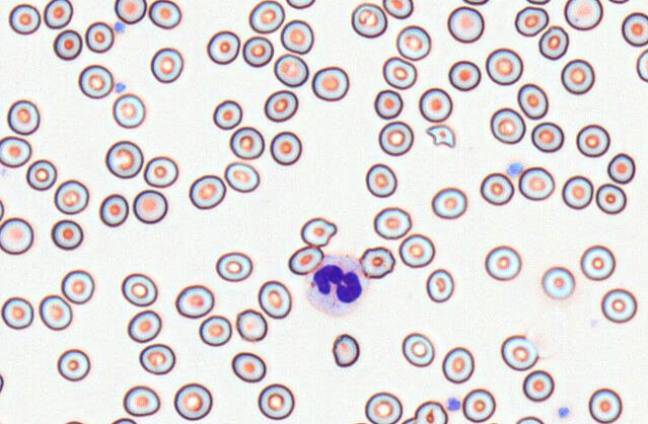GRAN: (305, 252, 370, 318)
PLT: (111, 19, 128, 35), (445, 396, 462, 412), (114, 80, 130, 96), (507, 161, 524, 176), (556, 405, 571, 420)
RBC: (173, 382, 212, 420), (105, 140, 143, 179), (485, 47, 523, 85), (447, 5, 484, 43), (500, 334, 538, 371), (257, 383, 294, 420), (311, 65, 349, 101), (257, 279, 291, 319), (484, 245, 521, 281), (350, 2, 387, 38), (489, 107, 525, 144), (600, 287, 637, 323), (188, 174, 226, 209), (175, 284, 214, 318), (395, 24, 431, 60), (579, 244, 615, 280), (560, 58, 595, 95), (0, 216, 33, 255), (378, 120, 413, 156), (398, 233, 434, 268), (53, 179, 89, 214), (518, 166, 555, 200), (373, 206, 411, 239), (132, 189, 167, 224), (78, 64, 113, 99), (6, 99, 40, 135), (38, 294, 72, 330), (588, 387, 622, 423), (121, 272, 157, 306), (441, 346, 474, 383), (364, 391, 402, 423), (563, 0, 603, 30), (418, 87, 452, 122), (273, 53, 308, 87), (60, 269, 94, 304), (575, 123, 610, 157), (359, 246, 395, 279), (248, 0, 284, 33), (431, 186, 467, 219), (150, 47, 183, 83), (138, 343, 175, 375), (122, 385, 160, 416), (461, 388, 495, 422), (127, 309, 161, 343), (541, 265, 575, 299), (206, 30, 240, 64), (401, 332, 434, 367), (143, 155, 178, 188), (479, 172, 514, 205), (229, 126, 264, 159), (382, 56, 417, 89), (280, 19, 313, 54), (263, 89, 298, 122), (269, 130, 302, 165), (112, 93, 145, 128), (223, 161, 259, 193), (215, 251, 252, 282), (56, 348, 90, 381), (514, 5, 549, 37), (365, 162, 397, 197), (517, 83, 548, 119), (0, 296, 33, 329), (198, 314, 232, 346), (235, 308, 267, 342), (561, 175, 593, 209), (538, 25, 569, 60), (231, 351, 266, 382), (287, 245, 323, 275), (522, 369, 554, 402), (25, 158, 57, 191), (448, 59, 481, 91), (8, 3, 41, 35), (530, 121, 564, 152), (0, 135, 31, 168), (50, 219, 83, 250), (242, 35, 273, 67), (595, 182, 626, 214), (425, 268, 454, 302), (99, 193, 128, 227), (84, 21, 114, 53), (148, 0, 181, 29), (621, 11, 647, 47), (212, 99, 242, 130), (373, 89, 403, 119), (53, 29, 82, 60), (607, 152, 635, 184), (43, 0, 73, 29), (413, 400, 447, 423), (114, 0, 146, 24), (382, 0, 413, 19), (636, 48, 647, 82), (286, 0, 315, 9), (514, 415, 544, 423), (109, 417, 137, 424), (462, 0, 489, 5), (525, 0, 551, 5), (400, 416, 416, 423), (0, 371, 4, 395), (0, 197, 4, 221), (607, 0, 630, 4), (62, 420, 85, 424)
Schistocyte: (300, 217, 340, 250), (330, 332, 363, 367), (425, 123, 457, 151)
